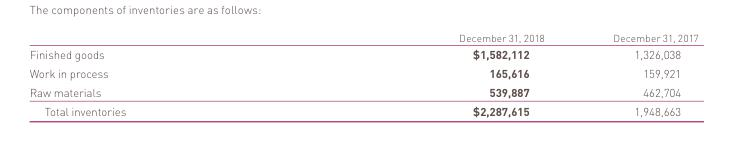table: (28, 29, 697, 117)
table column: (291, 29, 577, 117), (28, 29, 291, 117), (577, 29, 697, 117)
table column header: (28, 29, 697, 43)
table row: (28, 43, 697, 62), (28, 62, 697, 81), (28, 81, 697, 100), (28, 100, 697, 117), (28, 29, 697, 43)
